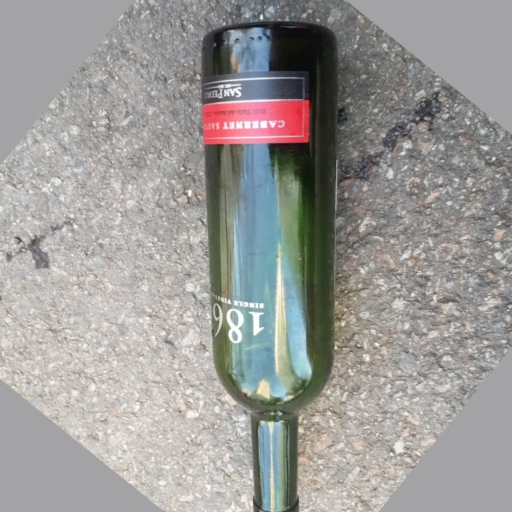Glass_2: (196, 20, 340, 512)
